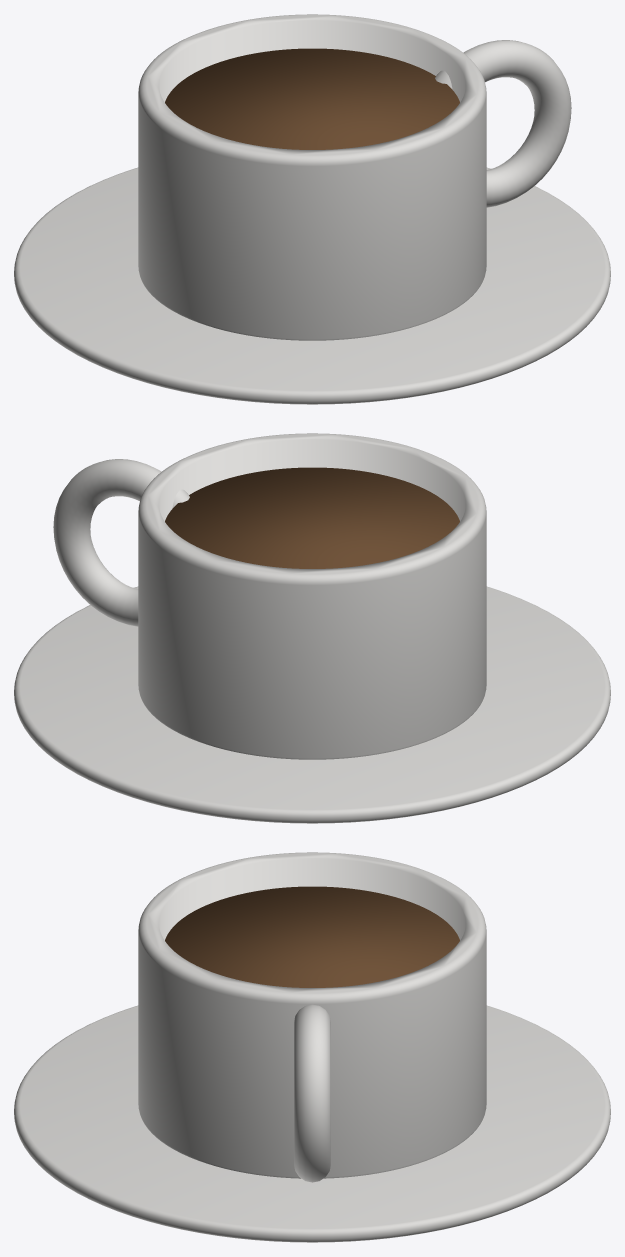
Rendered from cup.glb.
The picture shows the model from 3 angles, top to bottom: view 1: azimuth 30°, elevation 25°; view 2: azimuth 150°, elevation 25°; view 3: azimuth 270°, elevation 25°; orthographic projection.
Visible parts, largest first — view 1: cup, saucer, coffee, handle; view 2: cup, saucer, coffee, handle; view 3: cup, saucer, coffee, handle.
Part boxes in pixels (x1,y1,x2,y2): cup: (138,14,486,340); saucer: (14,167,610,404); coffee: (165,48,459,149); handle: (435,40,571,207); cup: (138,433,486,759); saucer: (14,586,610,823); coffee: (165,467,459,568); handle: (53,459,189,626); cup: (138,852,486,1178); saucer: (14,1005,610,1242); coffee: (165,886,459,987); handle: (294,1004,330,1182).
Bounding box in the file's own units: 1.44 × 0.5195 × 1.44.
